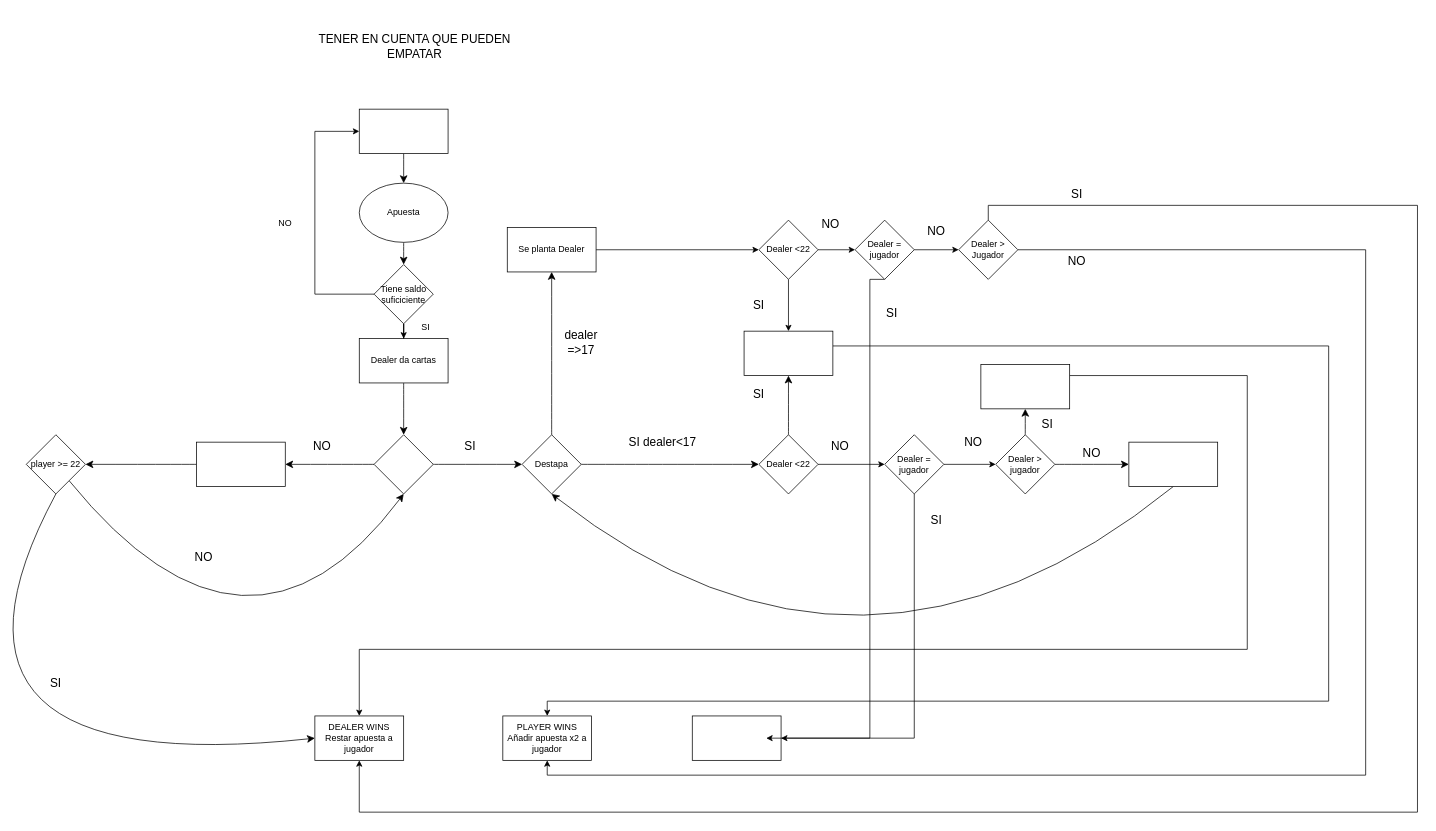
The diagram is 1436 pixels wide and 831 high, and some of its shapes have lost their labels. The shapes that lost their labels are listed below. From the top down, each one's centre as x and y in pixels, then its label:
point 403,131: Start
point 788,353: Dealer loses
point 1025,386: Dealer wins
point 240,464: Robo
point 403,464: Plantarse
point 1173,464: roba
point 736,737: EMPATE
